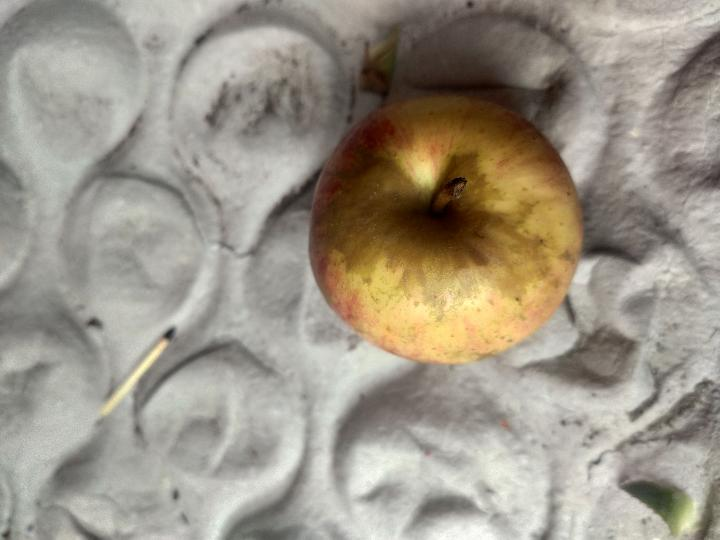apple: (310, 96, 582, 363)
bruise_discoloration: (310, 144, 560, 325)
